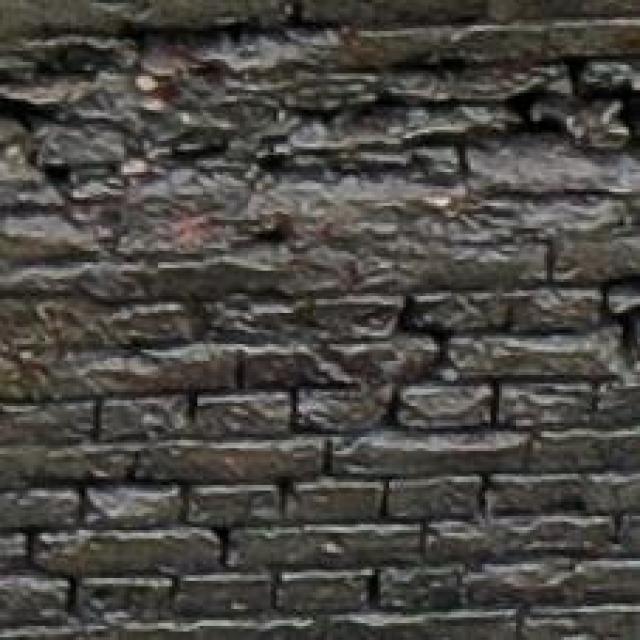Crack: (0, 13, 640, 476)
